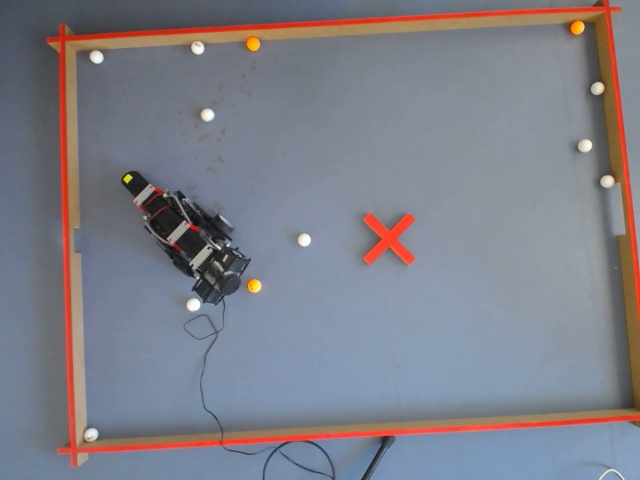orange: (569, 19, 587, 38), (247, 278, 262, 293), (246, 36, 260, 51)
robot: (121, 167, 247, 307)
white: (588, 79, 608, 98), (567, 19, 586, 39), (598, 172, 617, 191), (88, 48, 106, 66), (576, 137, 593, 155), (190, 39, 206, 56), (199, 107, 216, 123), (297, 232, 312, 248), (83, 427, 99, 442), (186, 297, 201, 312)
